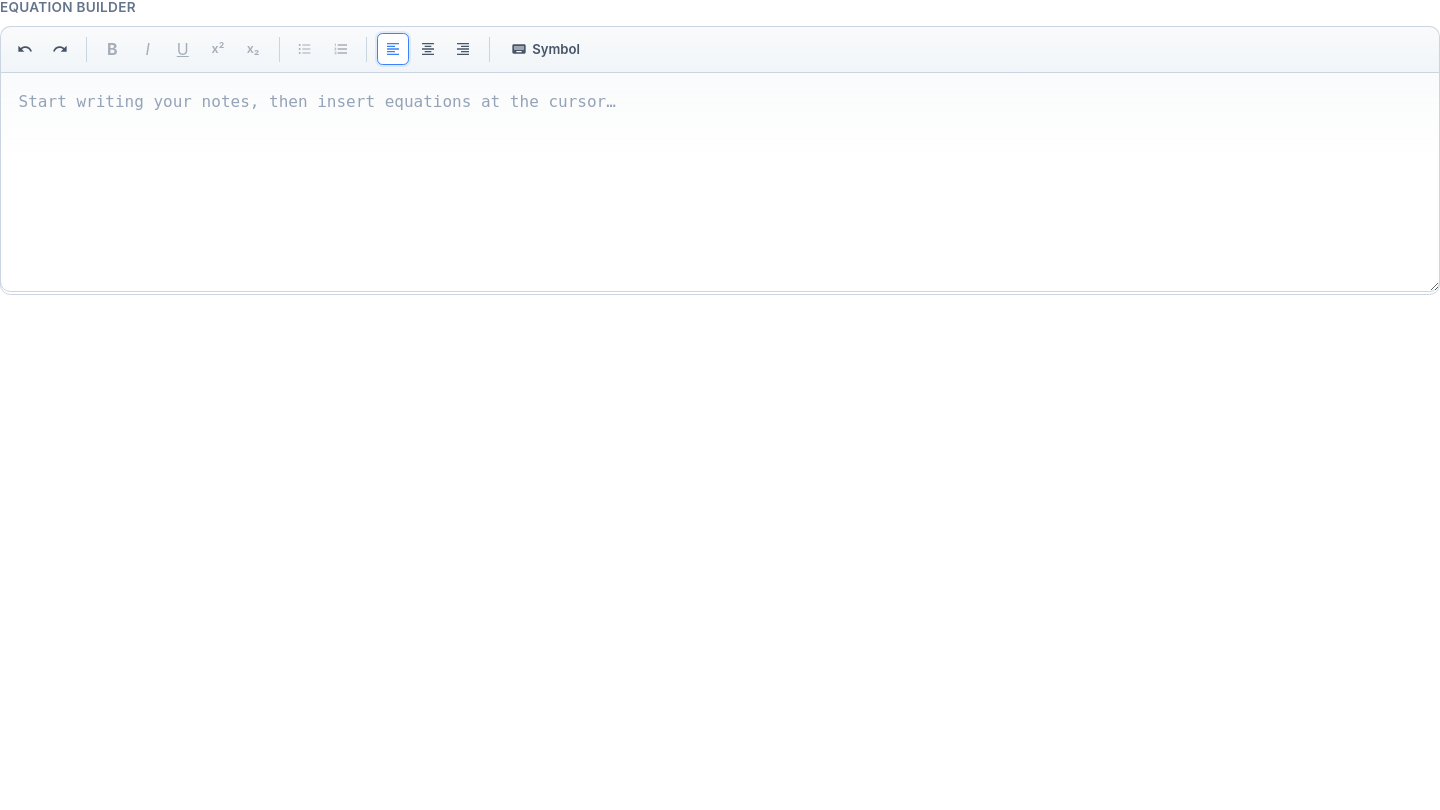
Test case: EquationEditor › shows the wysiwyg toolbar and opens symbols from it
Expected: the element with test id "equation-wysiwyg-toolbar" is shown, [0,26,1439,72]
Click the button with aria-label "insert symbol" at [545, 49], box [499,33,591,65]
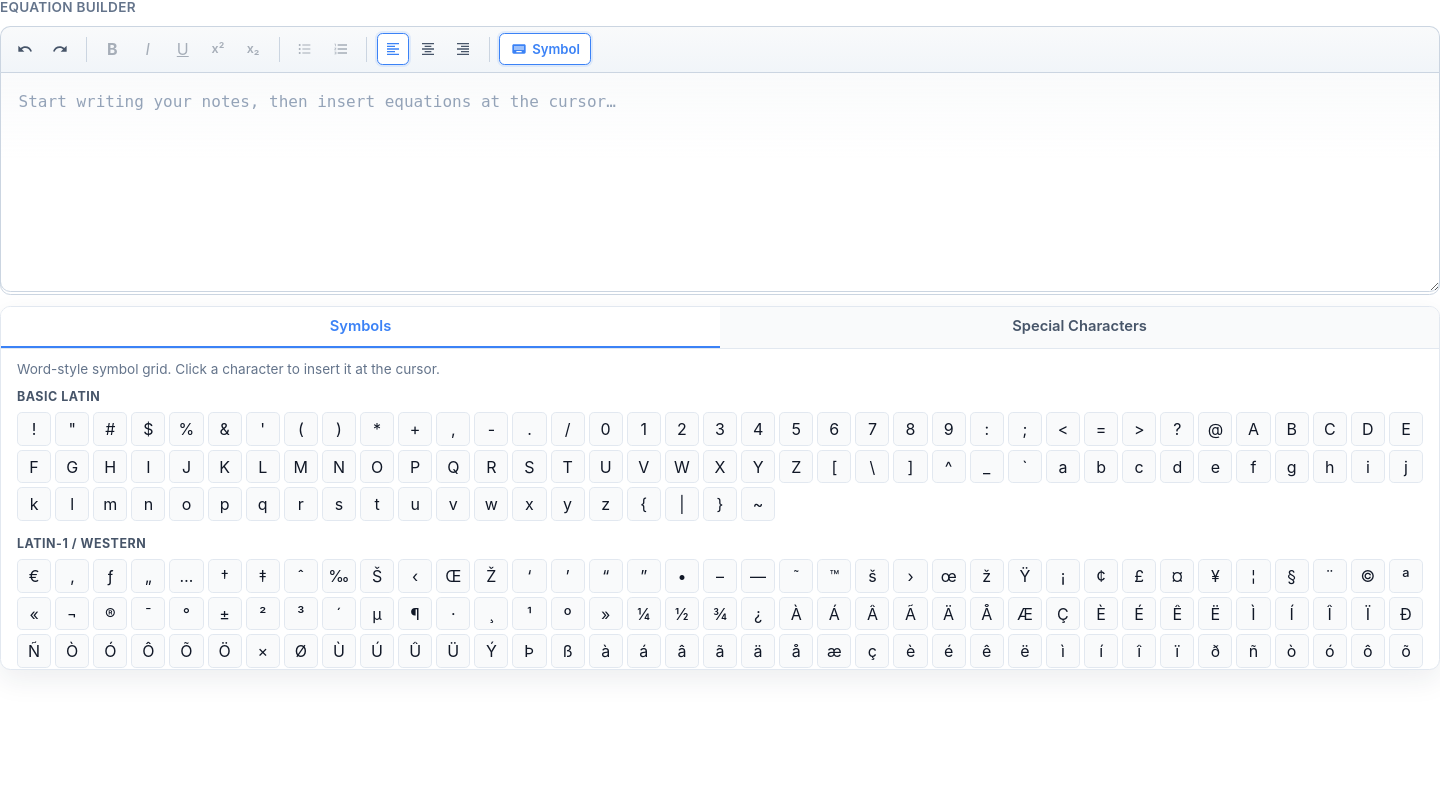
Expected: the dialog with test id "symbol-keyboard-panel" is shown, [0,306,1439,670]
